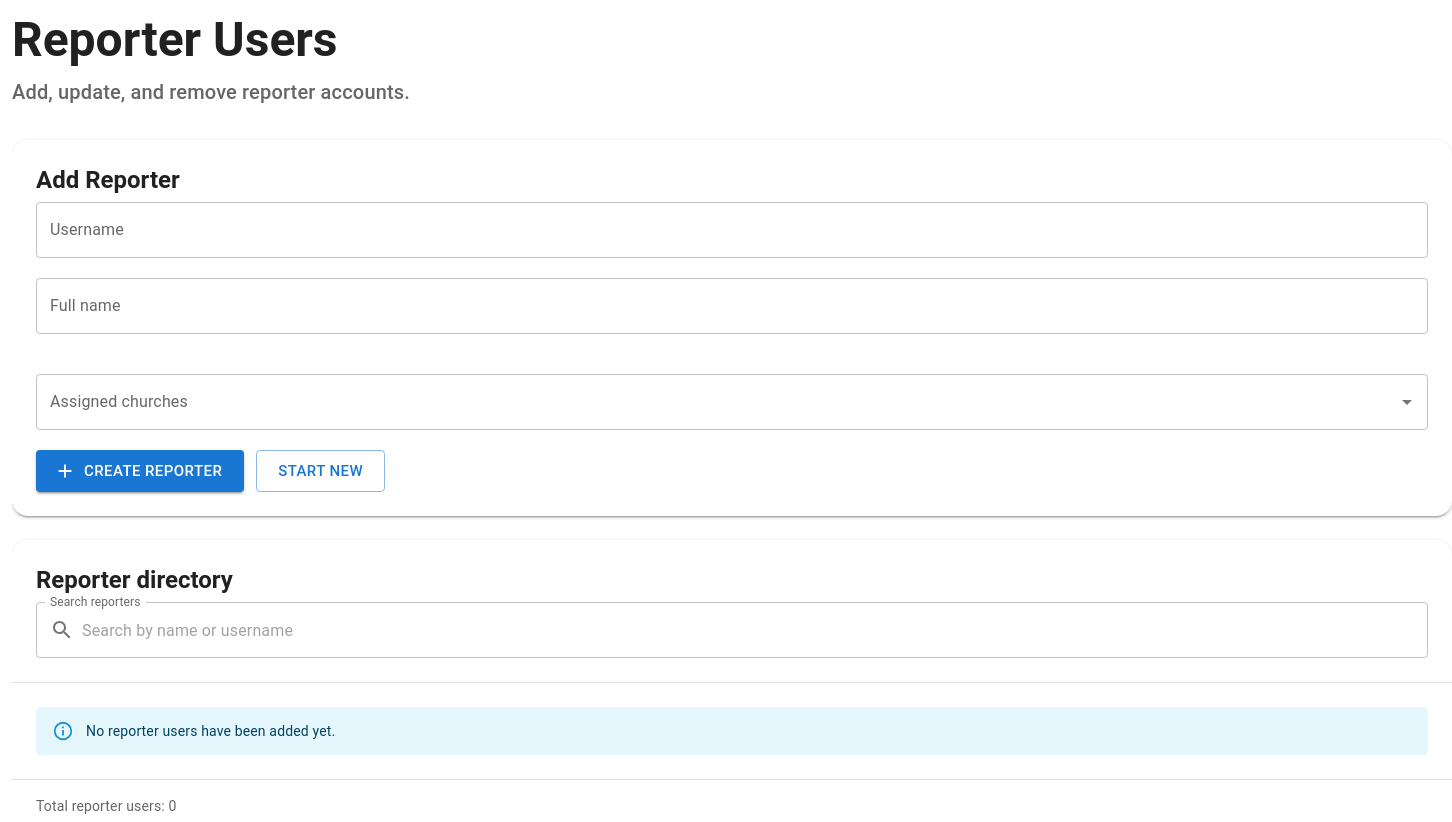
Test: ReporterUserManagementPage › validates required fields before saving
This screenshot has width=1452, height=822.
Click the button "Create Reporter" at (140, 471), box 36,450 -> 244,492
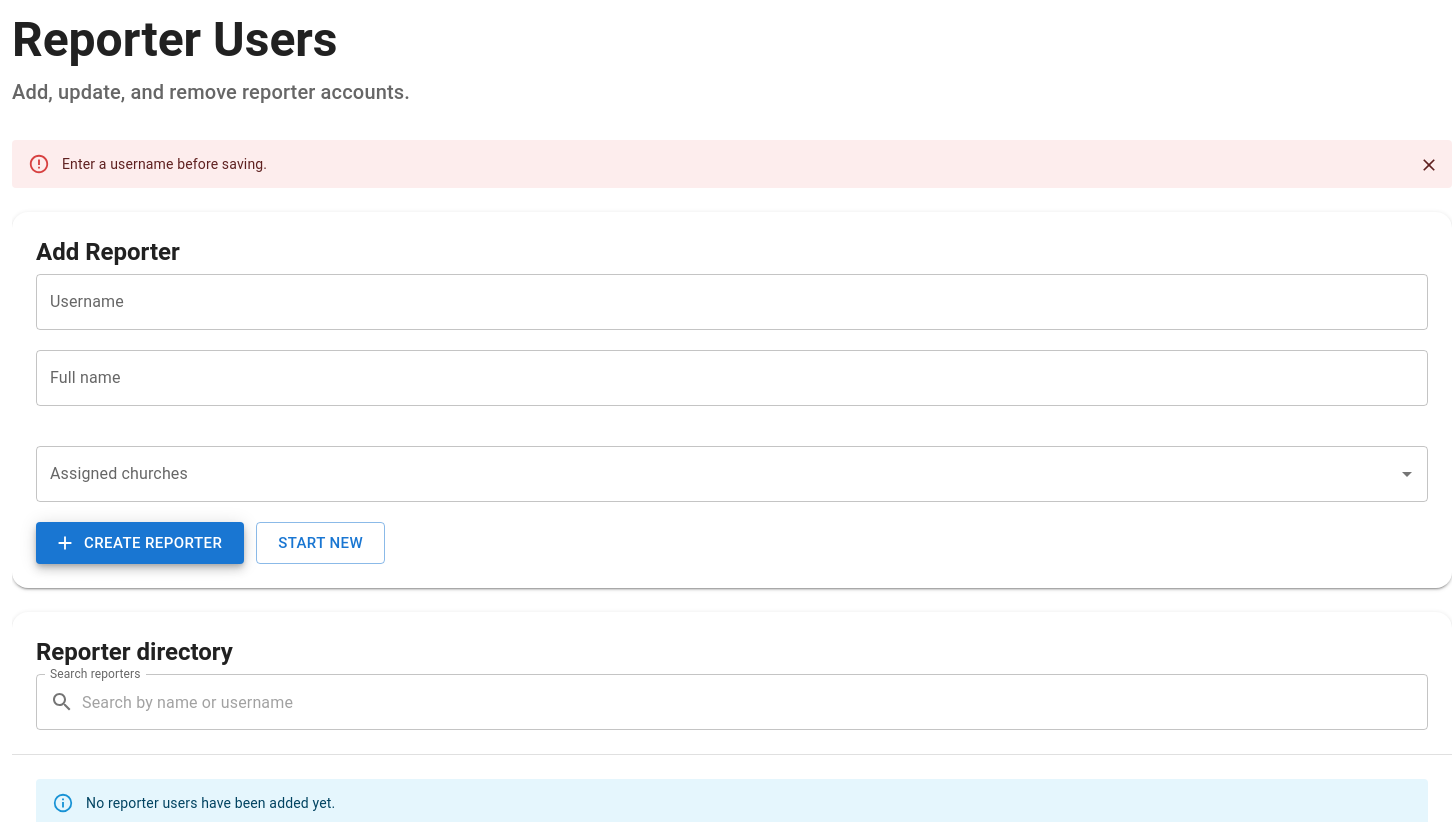
Expected: the text "Enter a username before saving." is shown, 62,156 -> 267,172
